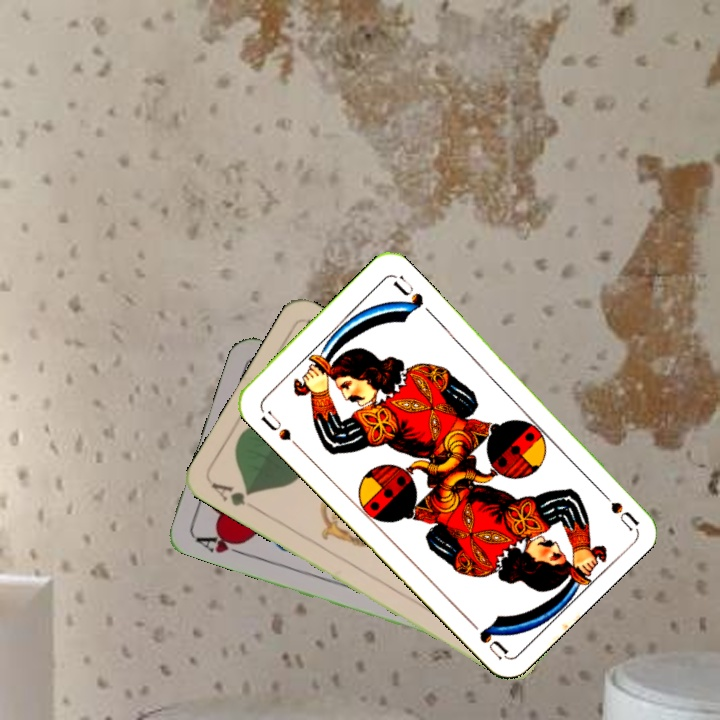GA: (207, 478, 262, 514)
HA: (192, 528, 249, 559)
SU: (591, 482, 640, 532), (256, 406, 302, 451)
